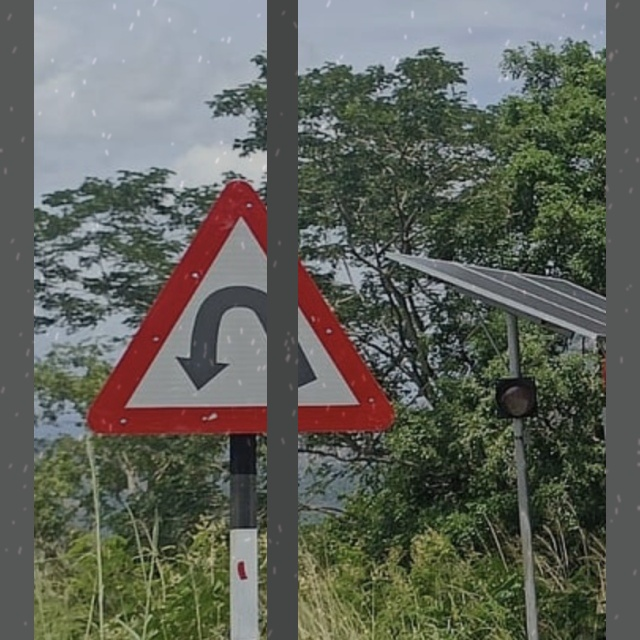Left_Hair_Pin_Bend: (83, 182, 401, 432)
